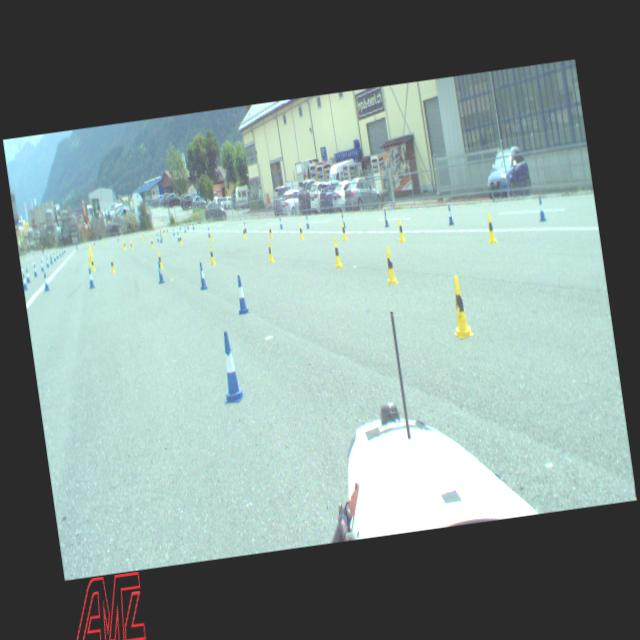blue_cone: (215, 330, 245, 404), (234, 276, 248, 314), (198, 262, 208, 290), (536, 197, 546, 220), (157, 262, 165, 283), (446, 206, 454, 225), (88, 268, 94, 288), (44, 272, 50, 290), (383, 210, 389, 227), (22, 273, 27, 289), (342, 212, 346, 228), (26, 269, 30, 282), (33, 264, 37, 276), (306, 216, 310, 228), (279, 218, 283, 229), (40, 260, 44, 270), (156, 233, 160, 242), (177, 232, 180, 242), (46, 257, 49, 267), (53, 252, 56, 262), (244, 222, 247, 232), (207, 227, 210, 237), (49, 255, 52, 264), (160, 234, 162, 243), (173, 228, 175, 235), (184, 225, 186, 232)
yellow_cone: (447, 274, 472, 340), (383, 246, 397, 284), (332, 240, 342, 268), (486, 214, 496, 242), (397, 220, 405, 242), (266, 240, 274, 262), (156, 252, 164, 268), (210, 246, 216, 264), (341, 222, 347, 240), (298, 224, 304, 238), (90, 257, 95, 270), (110, 257, 114, 272), (268, 225, 272, 238), (242, 226, 246, 238), (150, 238, 154, 248), (180, 234, 183, 245), (123, 239, 126, 249), (142, 233, 145, 242), (162, 228, 165, 236), (210, 232, 212, 242), (130, 240, 132, 250)
